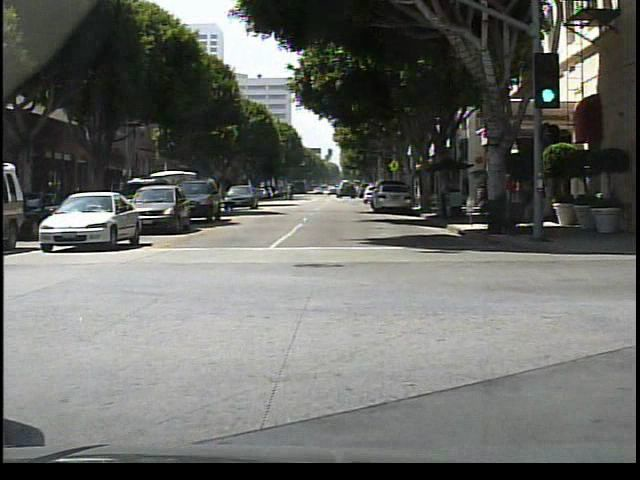person: (530, 162, 548, 237), (438, 172, 454, 219), (501, 169, 515, 220), (285, 184, 294, 201)
